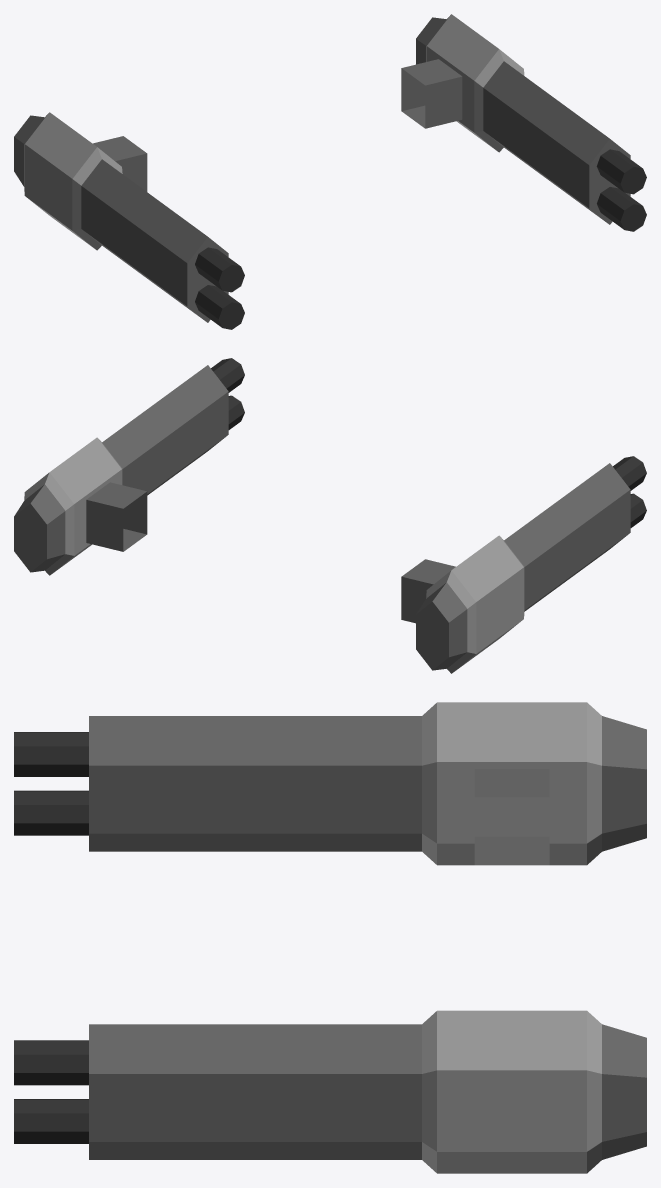
Rendered from mech_arm_cannon.glb.
3 views of the same model, one above another, from view 1: azimuth 30°, elevation 25°; view 2: azimuth 150°, elevation 25°; view 3: azimuth 270°, elevation 25° (orthographic). The views are drawn at different scales.
Visible parts, largest first — view 1: Cannon; view 2: Cannon; view 3: Cannon.
Boxes of the visible parts, bbox=[...] form: Cannon: bbox=[14, 14, 646, 329]; Cannon: bbox=[14, 358, 646, 673]; Cannon: bbox=[14, 702, 646, 1173].
Size of the model in its own units: 1.64 by 0.36 by 1.27.
Materials: 1 (1 with a texture image).
